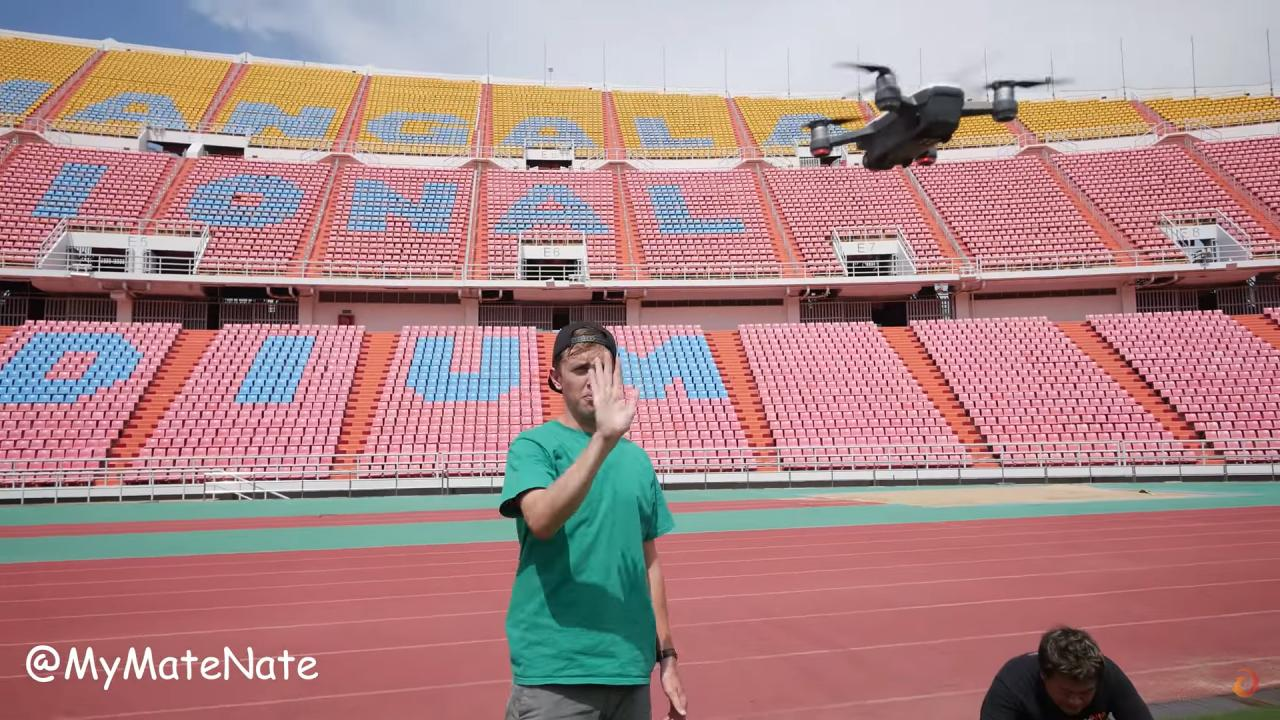Drone: (770, 31, 1094, 194)
